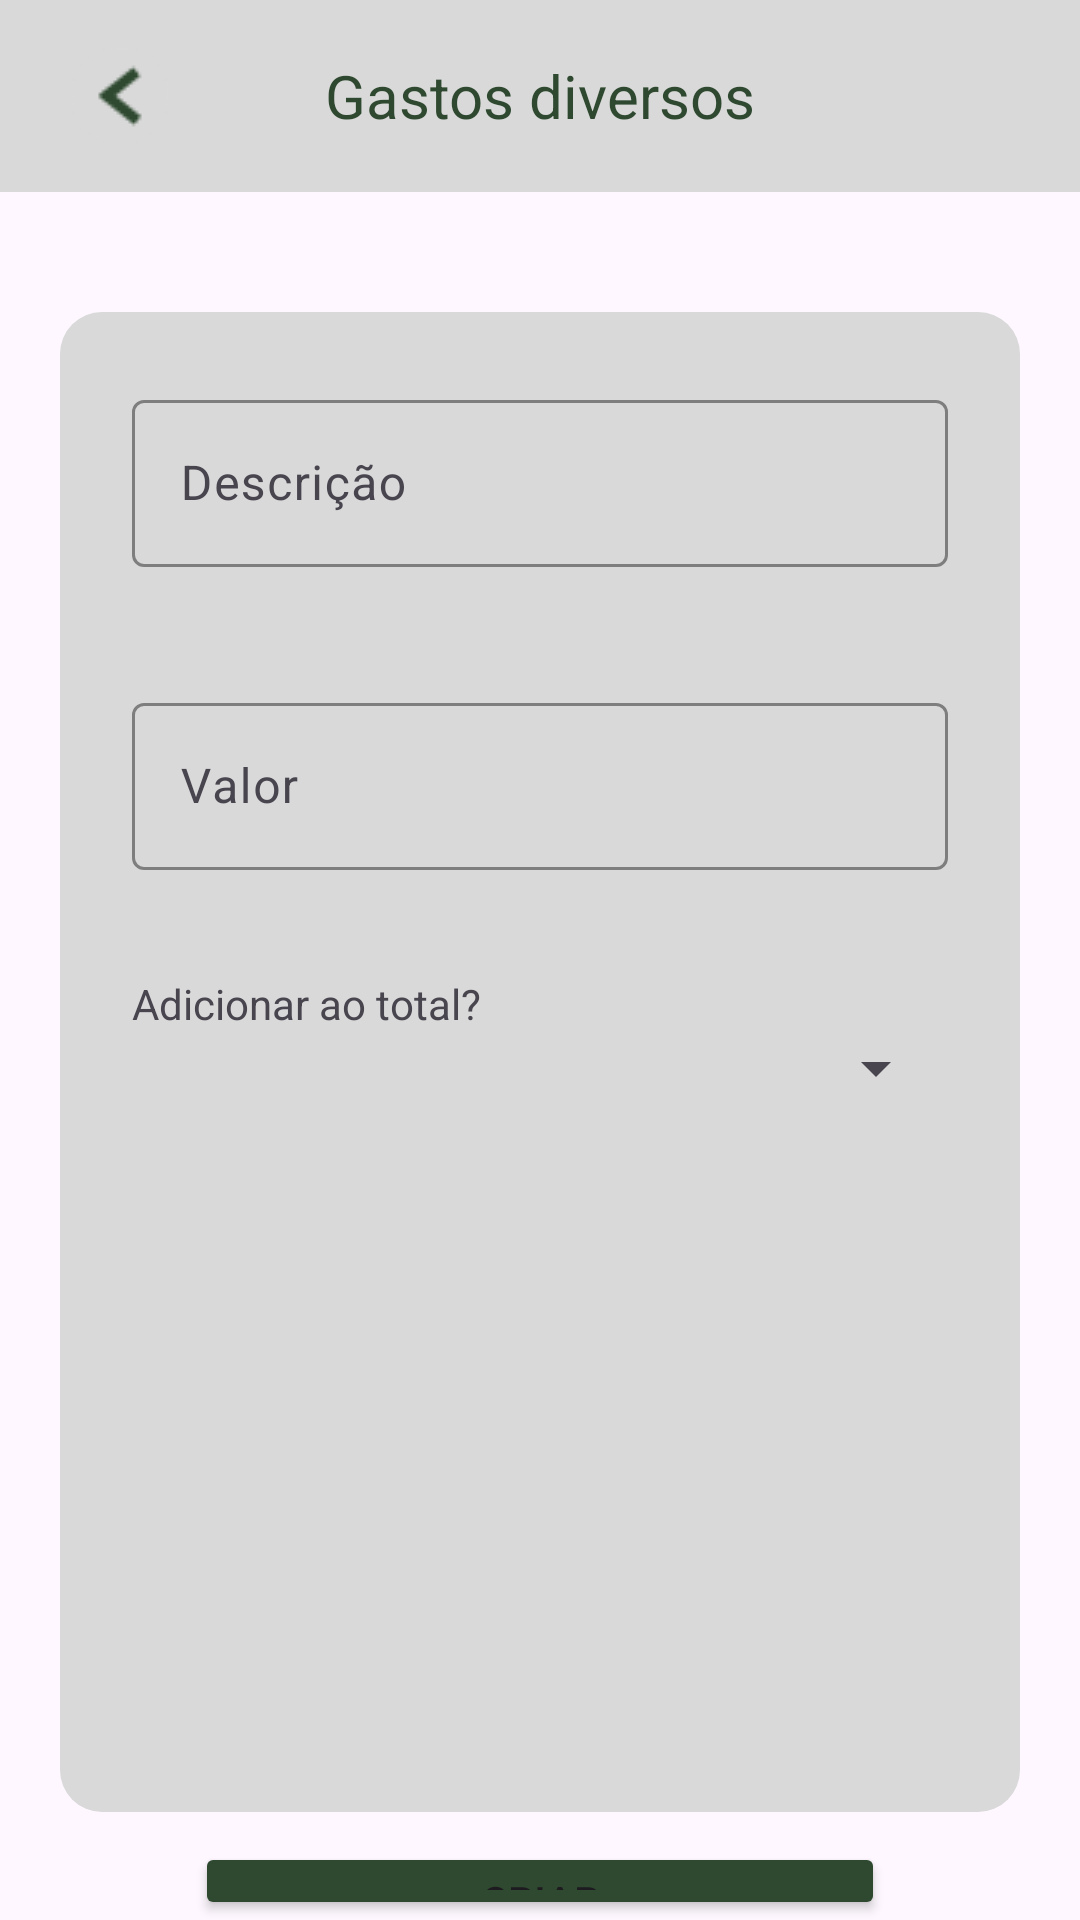

Screen size 1080px×1920px. Icon name, then its center in pixels as point (x, y):
Voltar: point (120, 96)
